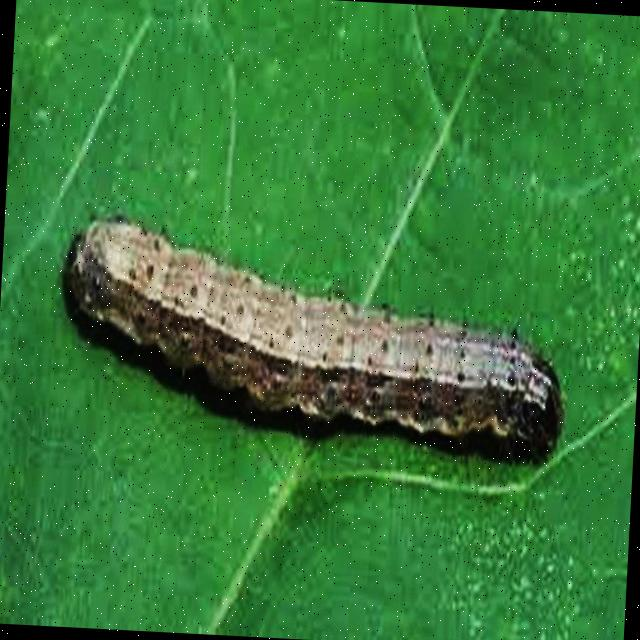worm: (56, 211, 577, 468)
